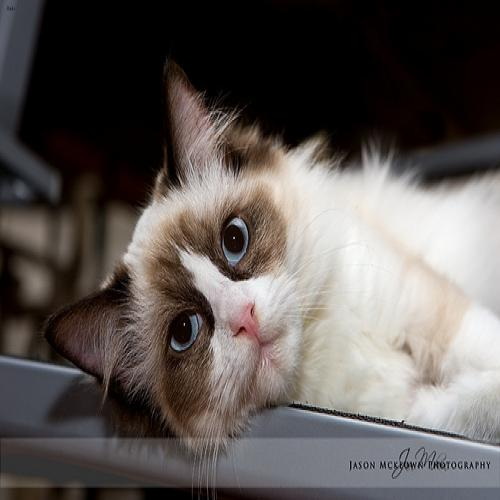ragdoll: (40, 56, 332, 471)
